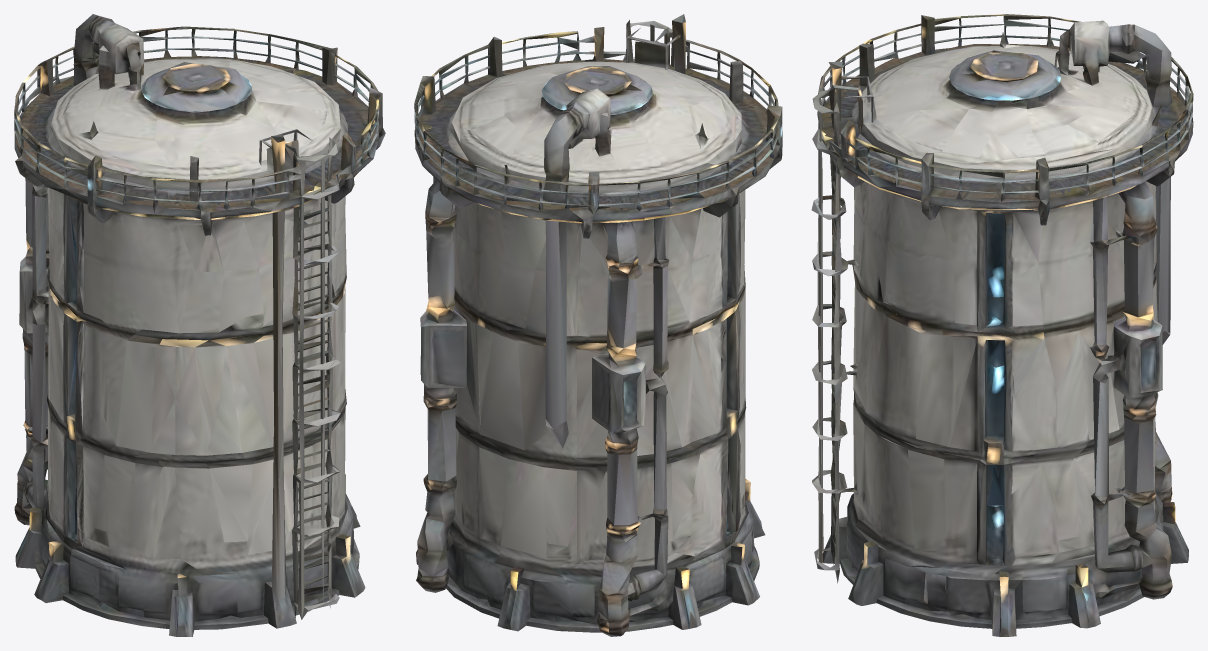
File: storage_tank.glb
3 renders of one model, left to right at view 1: azimuth 30°, elevation 25°; view 2: azimuth 150°, elevation 25°; view 3: azimuth 270°, elevation 25°, orthographic. The views are drawn at different scales.
Parts seen in each view (by area): view 1: storage_tank; view 2: storage_tank; view 3: storage_tank.
Boxes of the visible parts, x1,y1,x2,y2 form: storage_tank: (14,14,385,636); storage_tank: (414,14,782,636); storage_tank: (811,14,1193,636).
Size of the model in its own units: 5.94 by 9 by 6.
Materials: 1 (1 with a texture image).
